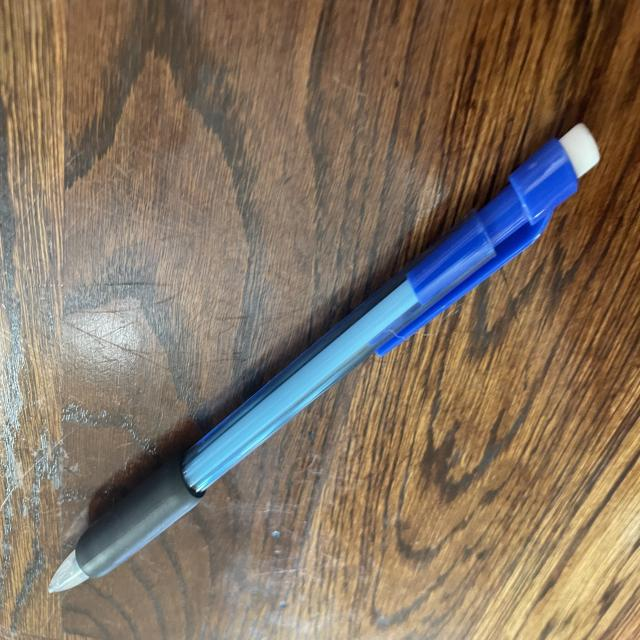mechanical-pencils: (41, 128, 607, 611)
